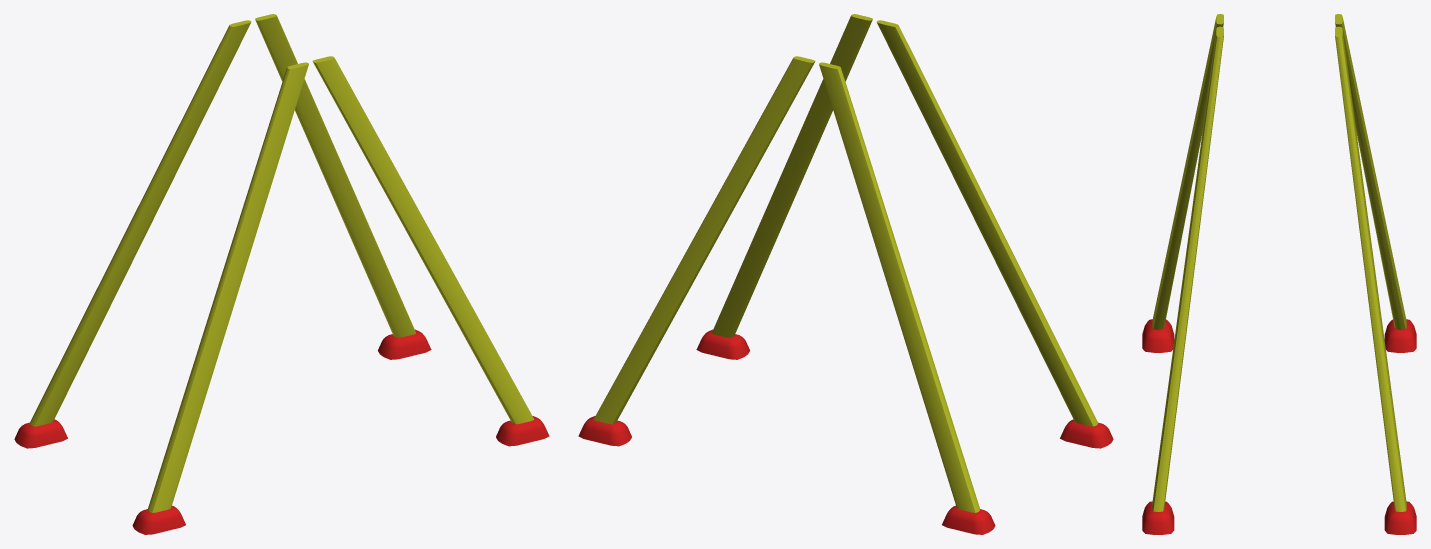
The model's file is SM_pillars_ferris_wheel.fbx.
3 views of the same model, side by side, from view 1: azimuth 30°, elevation 25°; view 2: azimuth 150°, elevation 25°; view 3: azimuth 270°, elevation 25° (orthographic). The views are drawn at different scales.
Parts seen in each view (by area): view 1: Cylinder51261; view 2: Cylinder51261; view 3: Cylinder51261.
Boxes of the visible parts, <box> form: Cylinder51261: <box>14,14,549,534</box>; Cylinder51261: <box>578,14,1113,534</box>; Cylinder51261: <box>1142,14,1416,534</box>.
Bounding box in the file's own units: 279 × 258 × 158.
